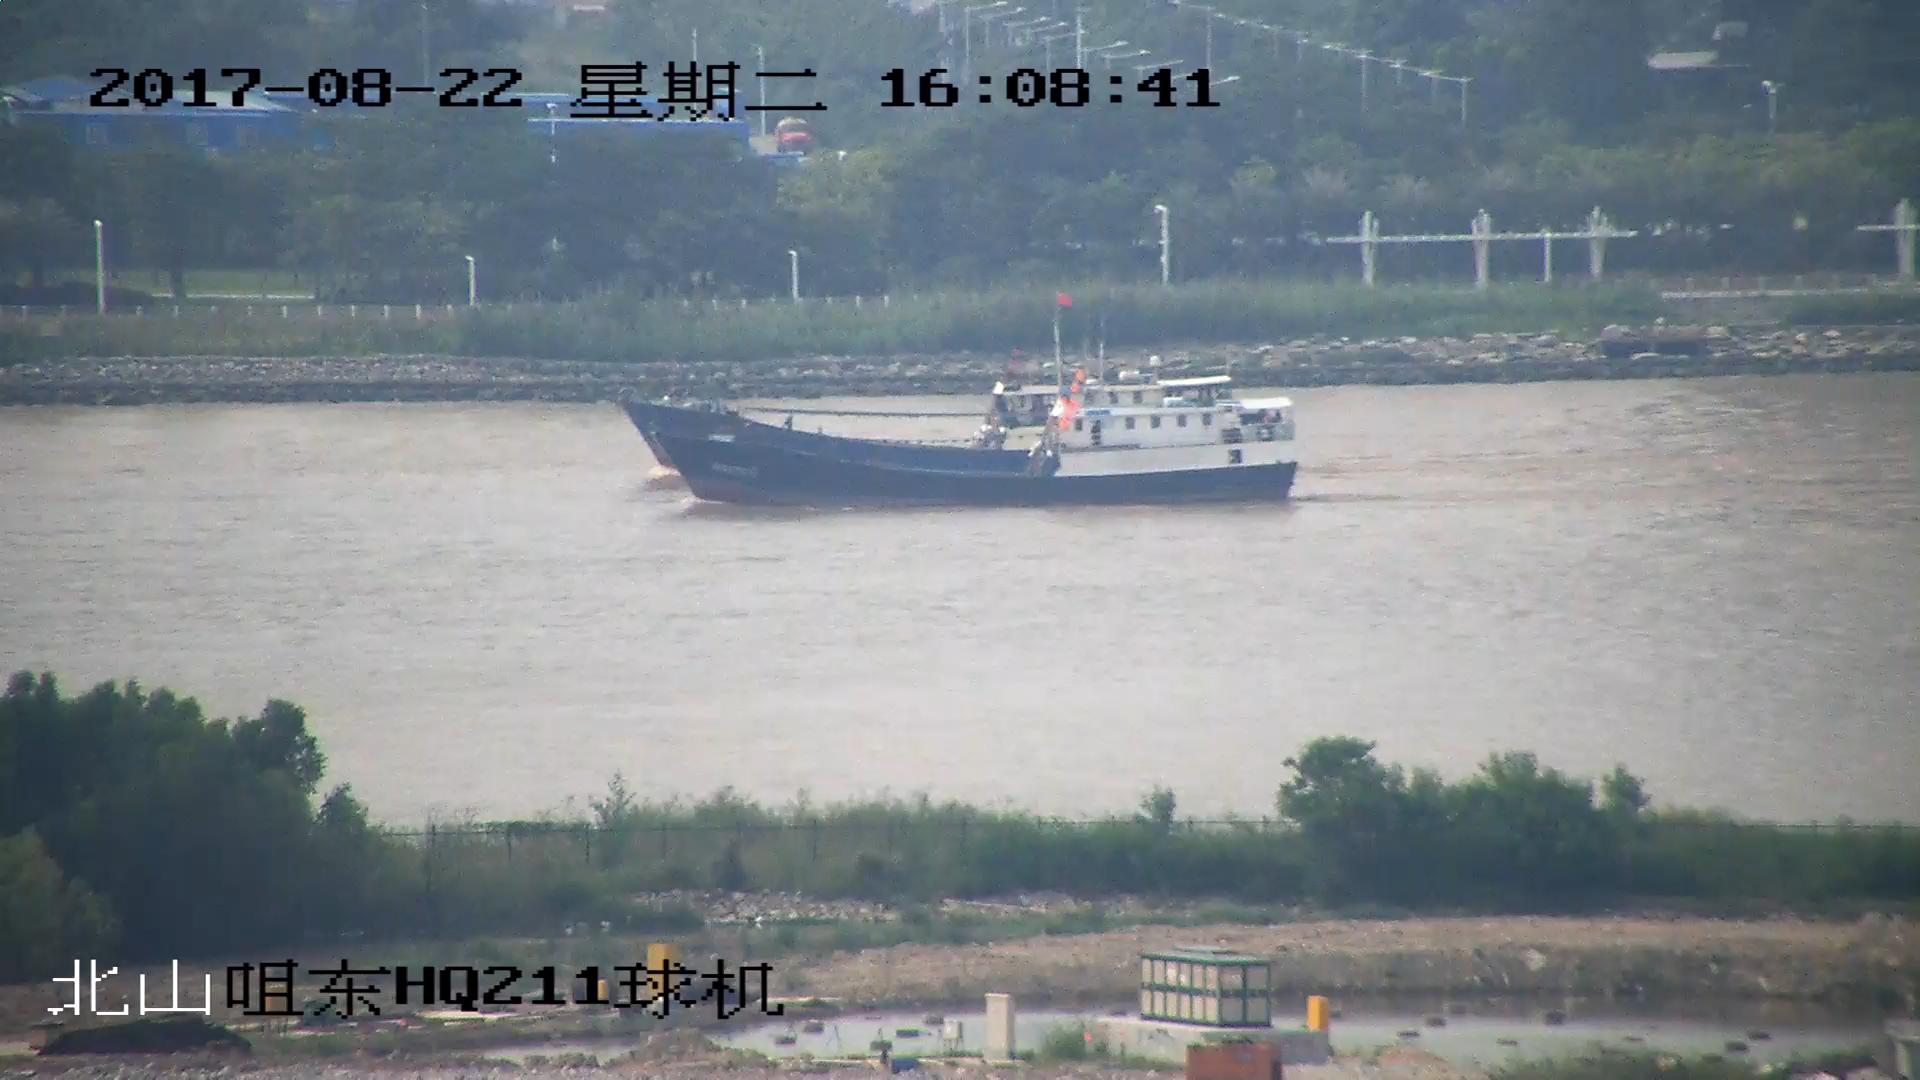fishing boat: (623, 301, 1240, 473), (657, 391, 1297, 514)
